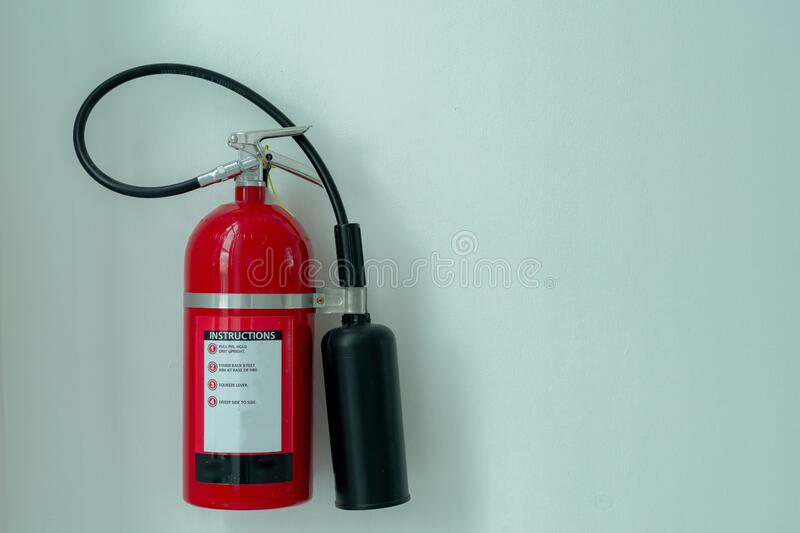fire_extinguisher: (72, 62, 409, 512), (181, 132, 323, 510)
